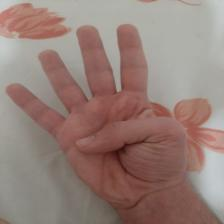four: (10, 24, 202, 204)
